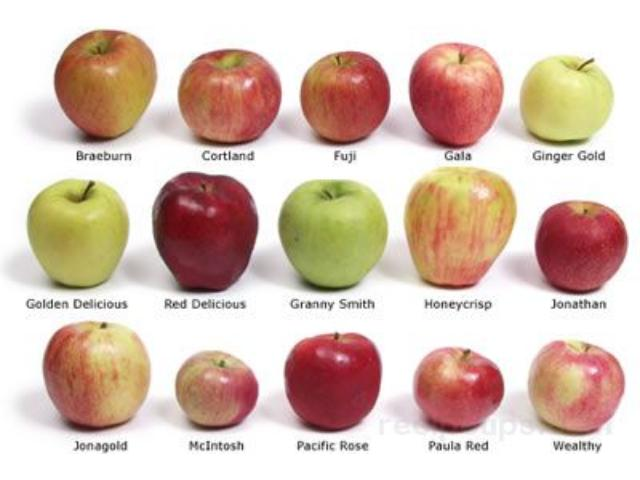green apple: (280, 179, 390, 291), (30, 179, 133, 289)
red apple: (406, 169, 519, 292), (148, 172, 260, 295), (42, 320, 153, 428), (54, 31, 160, 143), (408, 42, 505, 148), (180, 48, 284, 146), (285, 335, 384, 432), (527, 340, 625, 434), (533, 202, 627, 297), (301, 52, 392, 146), (415, 348, 506, 433), (175, 353, 260, 432)
